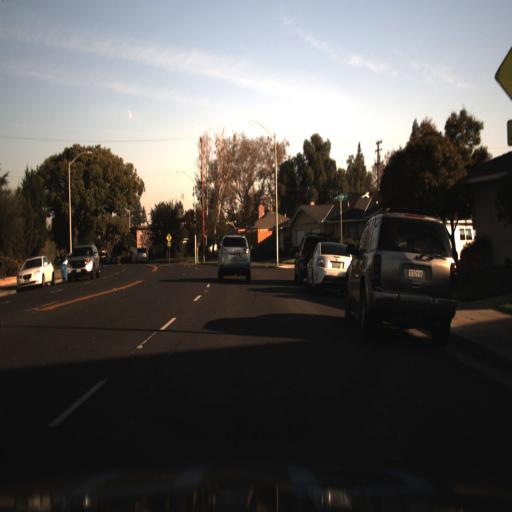car: (346, 201, 457, 332), (306, 236, 346, 298), (304, 238, 353, 283), (62, 234, 103, 284), (214, 231, 252, 280), (64, 242, 101, 288), (15, 255, 56, 290), (294, 236, 312, 288), (133, 246, 148, 264)
